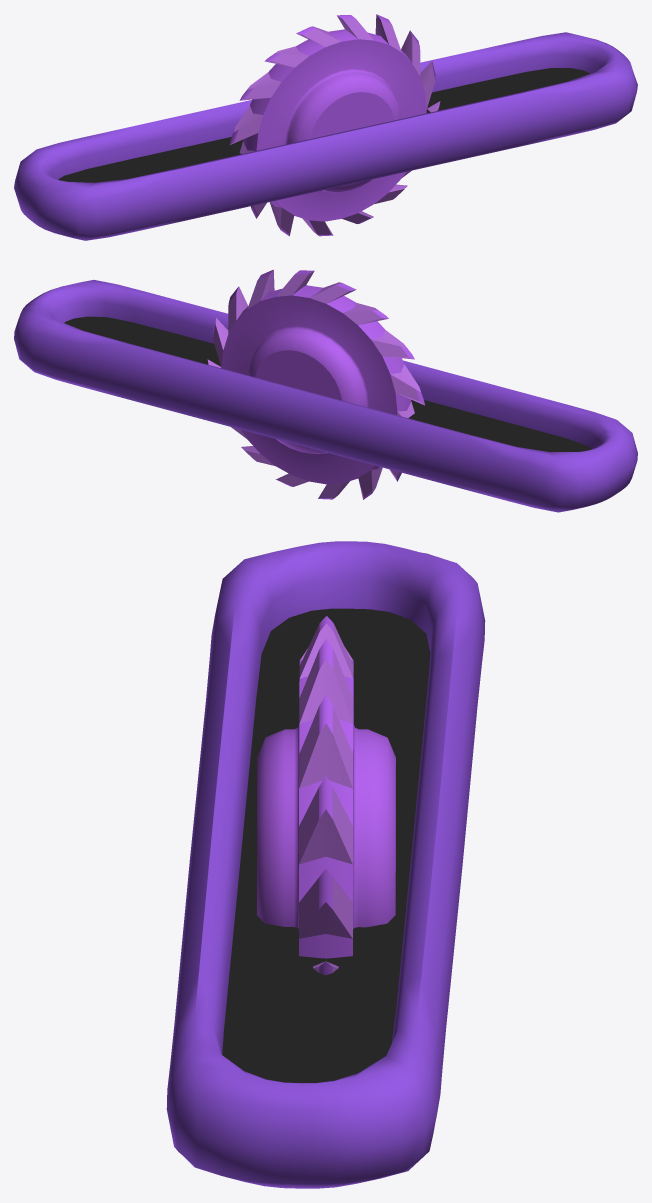
The model's file is whell2.fbx.
The picture shows the model from 3 angles, top to bottom: view 1: azimuth 30°, elevation 25°; view 2: azimuth 150°, elevation 25°; view 3: azimuth 270°, elevation 25°; orthographic projection. The views are drawn at different scales.
Visible parts, largest first — view 1: whell_2, wheel.002; view 2: whell_2, wheel.002; view 3: whell_2, wheel.002.
Part boxes in pixels (<box>): whell_2: <box>14,32,637,240</box>; wheel.002: <box>229,14,440,236</box>; whell_2: <box>14,280,637,512</box>; wheel.002: <box>207,269,425,499</box>; whell_2: <box>166,541,485,1188</box>; wheel.002: <box>257,616,395,975</box>.
Size of the model in its own units: 195 by 69.83 by 45.87.
